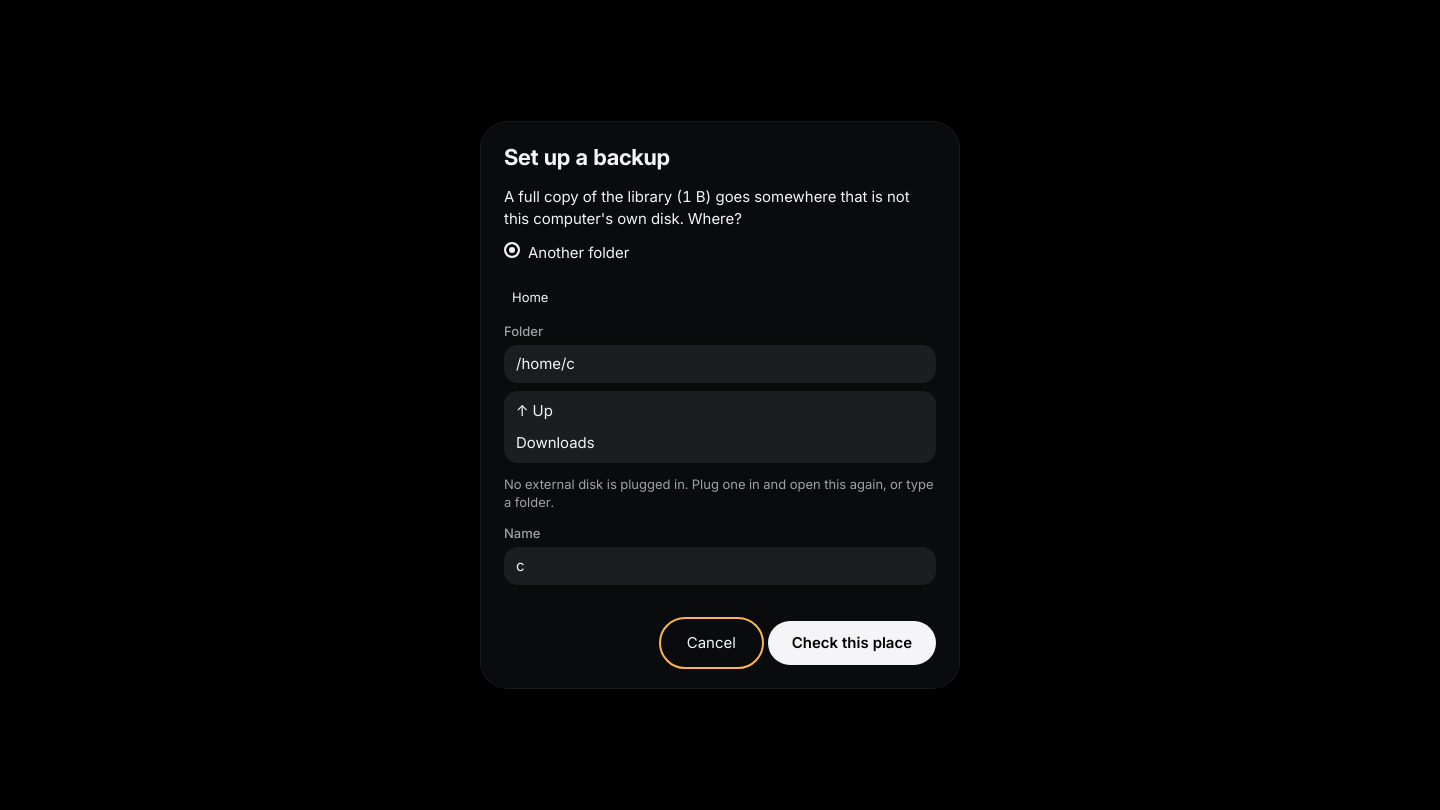
Test: BackupSetup, another folder › names the backup after the folder, so the place can be checked at once
The width and height of the screenshot is (1440, 810).
Replace the text in the field labelled "Folder" with "/home/c/Downloads/testbackup" at point(720, 364), box [504,345,936,383]
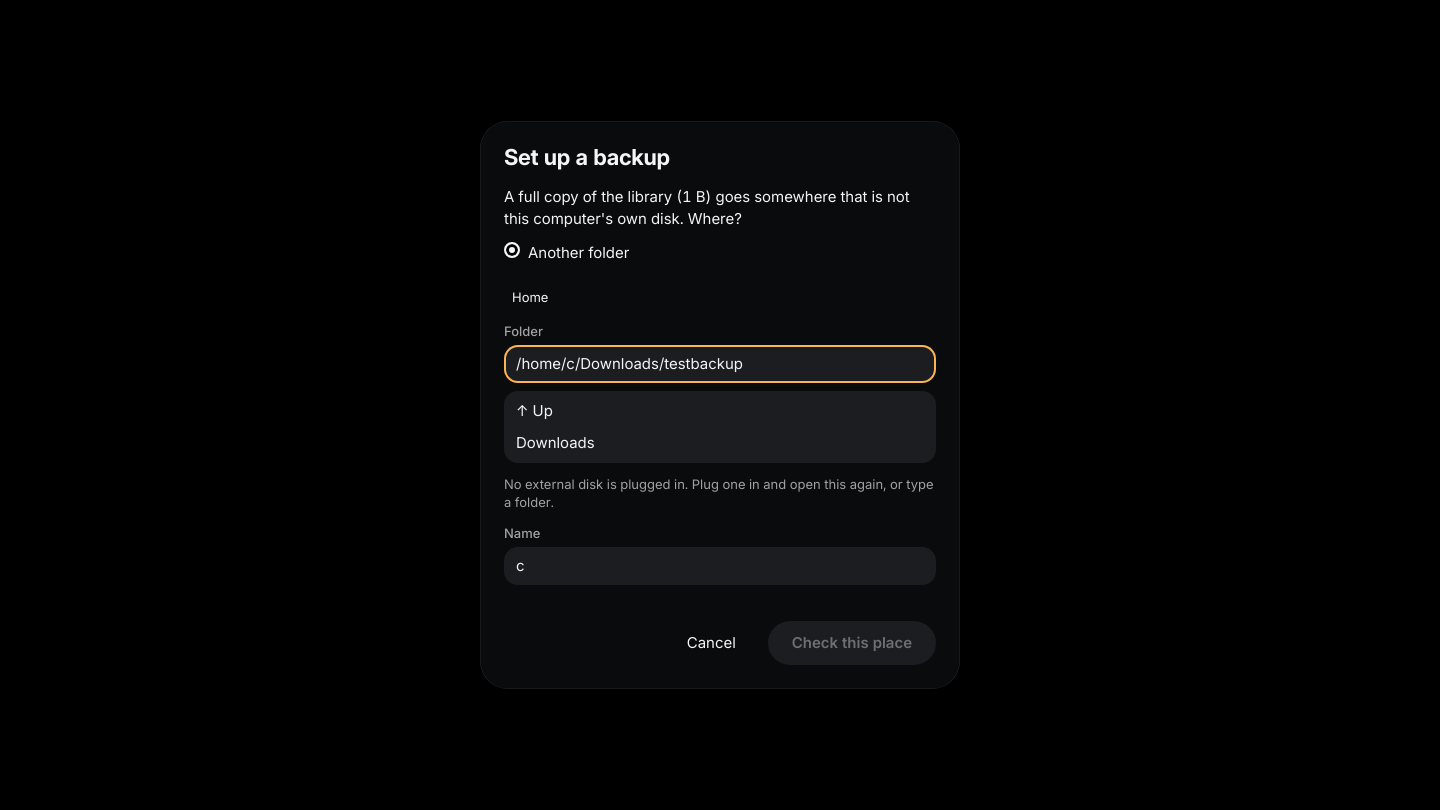
Press Enter in the field labelled "Folder", box [504,345,936,383]
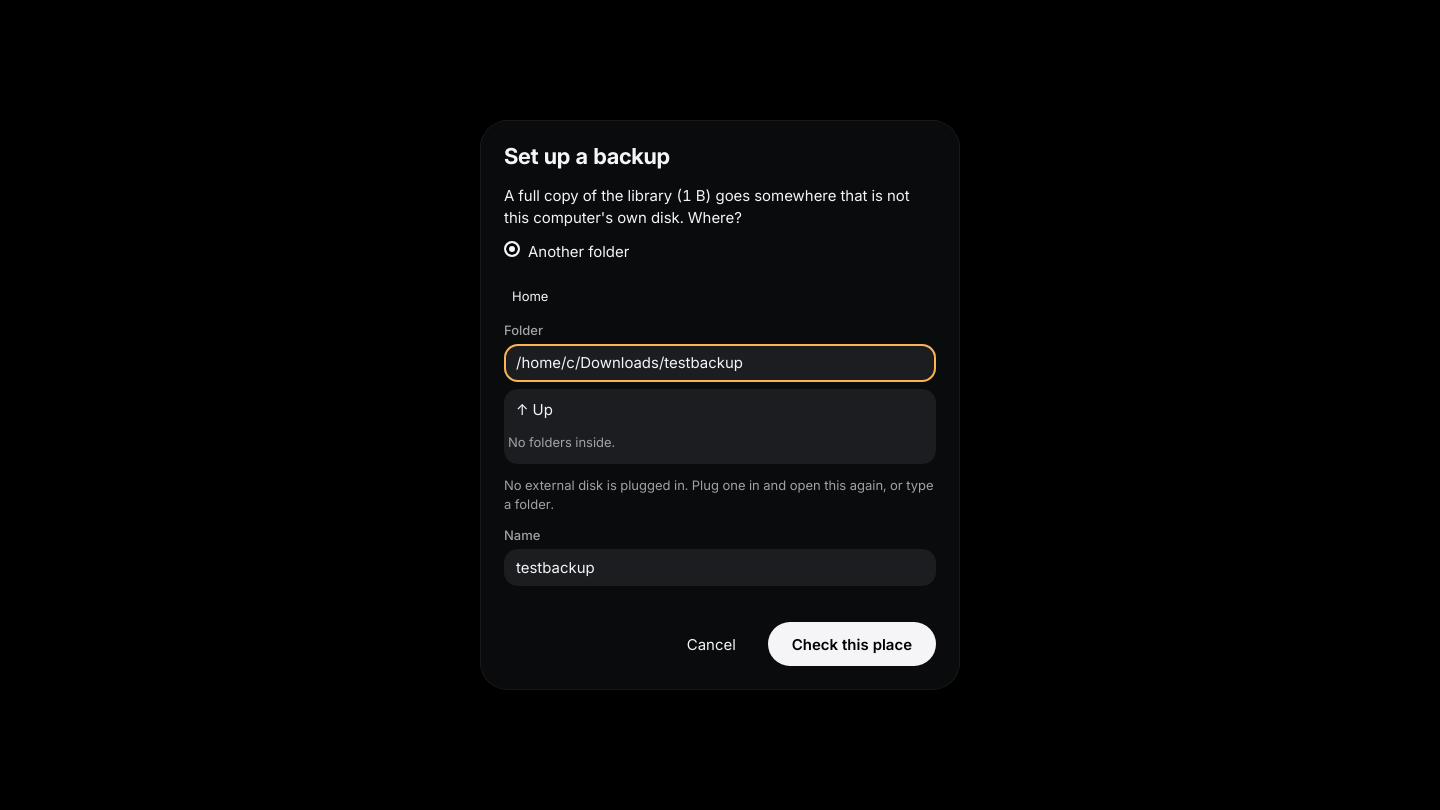
Expected: the field labelled "Name" holds "testbackup", [504,548,936,586]
Expected: the button "Check this place" is enabled, [768,622,936,666]
